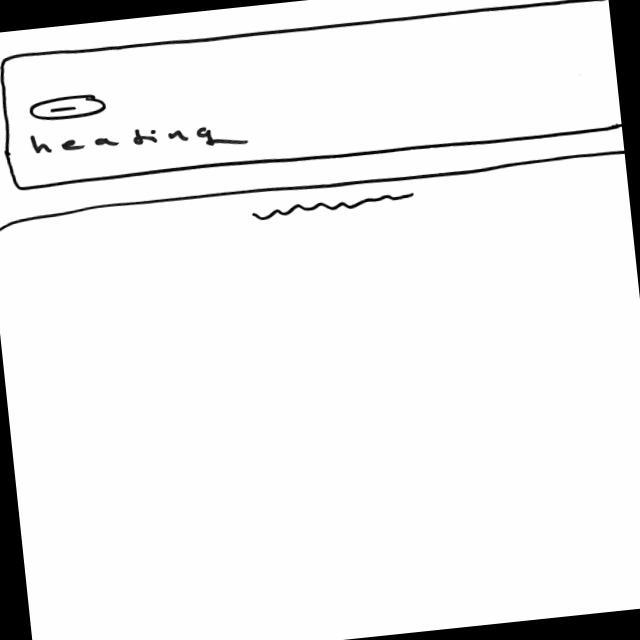container: (1, 1, 622, 194)
icon-button: (27, 90, 107, 125)
label: (28, 111, 249, 169)
text: (253, 190, 415, 224)
